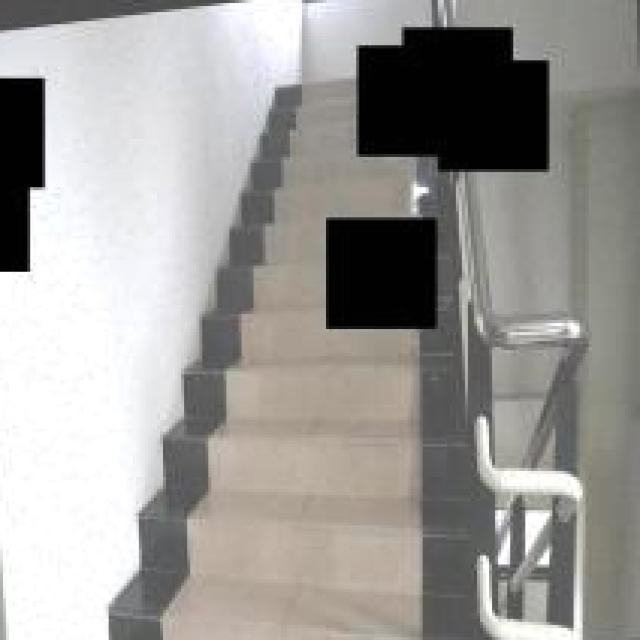upstair: (176, 351, 457, 640)
